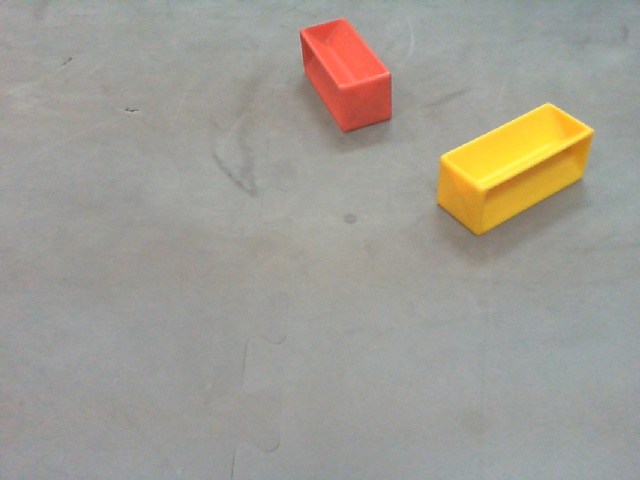RedSample: (296, 20, 393, 137)
YellowSample: (434, 97, 594, 236)
